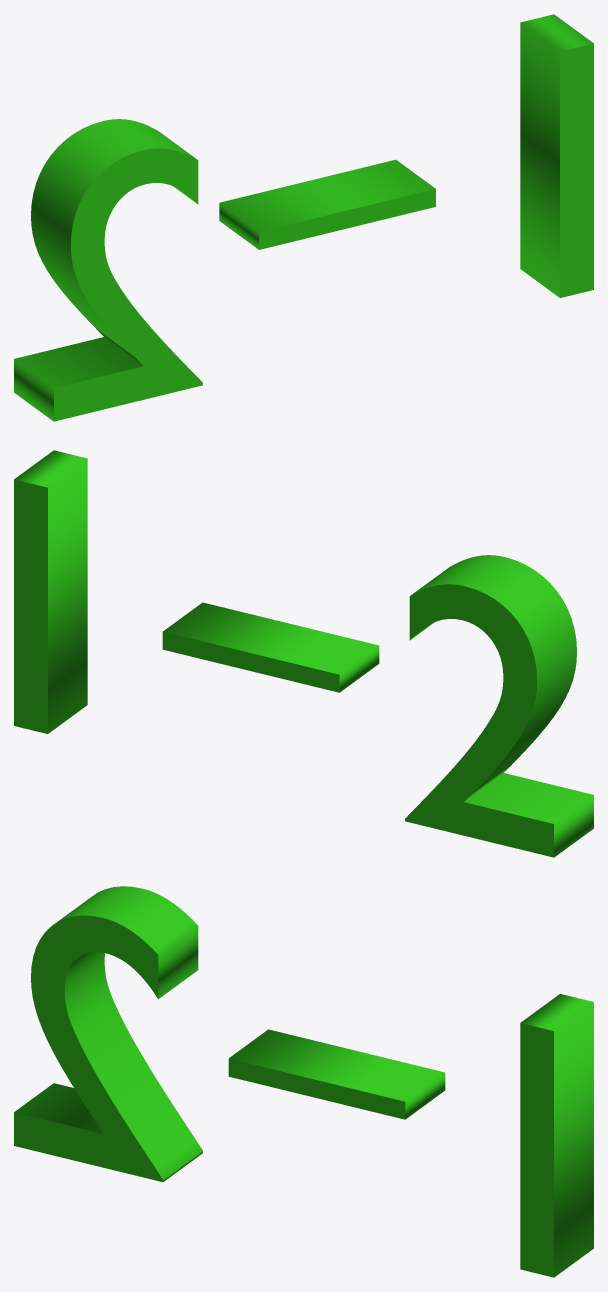
3 renders of one model, top to bottom at view 1: azimuth 30°, elevation 25°; view 2: azimuth 150°, elevation 25°; view 3: azimuth 330°, elevation 25°, orthographic.
Parts seen in each view (by area): view 1: テキスト, テキスト.001; view 2: テキスト, テキスト.001; view 3: テキスト, テキスト.001.
Boxes of the visible parts, left/top/right/bottom form: テキスト: left=14, top=14, right=593, bottom=421; テキスト.001: left=219, top=159, right=435, bottom=249; テキスト: left=14, top=450, right=593, bottom=857; テキスト.001: left=162, top=602, right=379, bottom=692; テキスト: left=14, top=886, right=593, bottom=1277; テキスト.001: left=228, top=1029, right=445, bottom=1119.
Size of the model in its own units: 1.56 by 0.691 by 0.2233.
